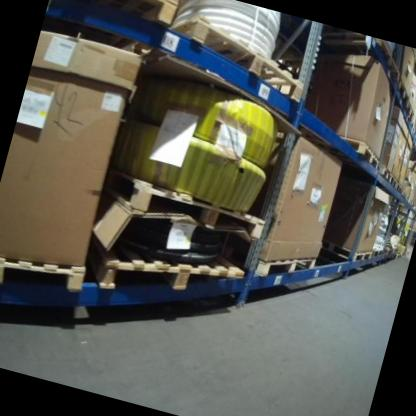pallet: (80, 223, 245, 325), (96, 161, 270, 251), (161, 8, 316, 105), (0, 237, 91, 309), (311, 23, 408, 85), (57, 0, 181, 31), (253, 243, 317, 291), (331, 133, 384, 171), (318, 236, 373, 267), (392, 78, 413, 109), (401, 100, 416, 123), (376, 163, 393, 183), (387, 174, 399, 189), (372, 247, 383, 259), (408, 119, 416, 133), (394, 182, 403, 194), (411, 132, 416, 148), (400, 190, 408, 199)
